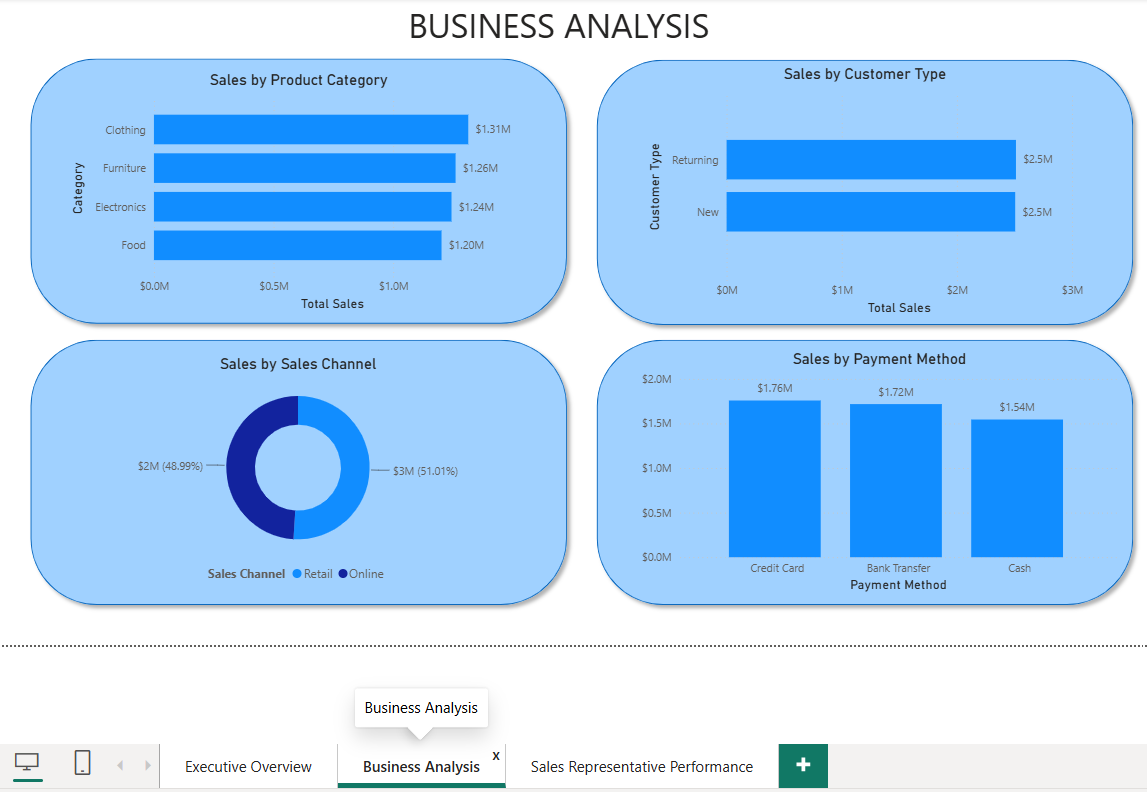

What the dashboard file says about the page in this screenshot:
{"tool":"powerbi","page":{"name":"Business Analysis","canvas":[1280,720],"ordinal":1},"visuals":[{"type":"shape","box":[655.3,59.8,615,313],"z":0},{"type":"shape","box":[25,58.4,615,313],"z":1000},{"type":"shape","box":[655.3,371.5,615,313],"z":2000},{"type":"shape","box":[25,371.5,615,313],"z":3000},{"type":"clusteredBarChart","title":"Sales by Product Category","fields":{"Category":["sales_data.Product_Category"],"Y":["Sum(sales_data.Sales_Amount)"]},"box":[73.7,80.7,517.6,272.7],"z":4000},{"type":"donutChart","title":"Sales by Sales Channel","fields":{"Category":["sales_data.Sales_Channel"],"Y":["Sum(sales_data.Sales_Amount)"]},"box":[76.5,396.5,510.6,263],"z":5000},{"type":"barChart","title":"Sales by Customer Type","fields":{"Category":["sales_data.Customer_Type"],"Y":["Sum(sales_data.Sales_Amount)"]},"box":[715.1,73.7,495.3,283.8],"z":6000},{"type":"clusteredColumnChart","title":"Sales by Payment Method","fields":{"Category":["sales_data.Payment_Method"],"Y":["Sum(sales_data.Sales_Amount)"]},"box":[709.6,391,538.4,275.5],"z":7000},{"type":"textbox","box":[425.7,0,392.3,59.8],"z":12000}]}

Visuals, with their boxes on the page's 1280x720 design canvas (x1, y1, x2, y2). These are canvas units, not pixel positions in the 1147x792 screenshot, which may show the page scaled, cropped or inside an application window:
shape: BBox(655, 60, 1270, 373)
shape: BBox(25, 58, 640, 371)
shape: BBox(655, 372, 1270, 684)
shape: BBox(25, 372, 640, 684)
"Sales by Product Category" clusteredBarChart: BBox(74, 81, 591, 353)
"Sales by Sales Channel" donutChart: BBox(76, 396, 587, 660)
"Sales by Customer Type" barChart: BBox(715, 74, 1210, 358)
"Sales by Payment Method" clusteredColumnChart: BBox(710, 391, 1248, 666)
textbox: BBox(426, 0, 818, 60)
